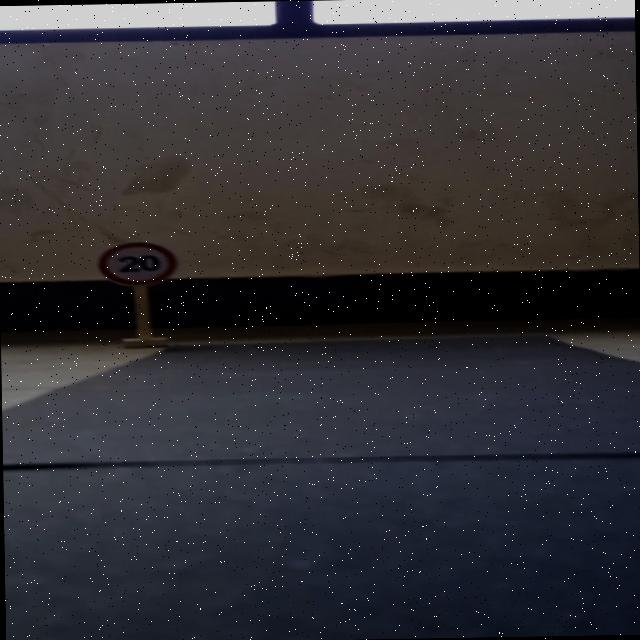Speed20: (78, 222, 198, 296)
